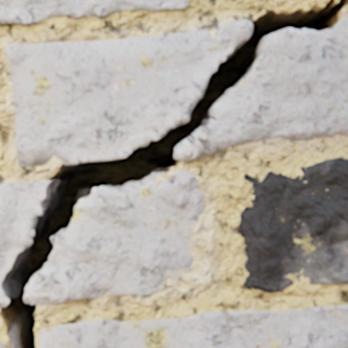brick: (237, 158, 347, 292), (40, 303, 347, 347), (0, 0, 188, 26), (0, 342, 6, 347)
broken_brick: (7, 20, 251, 166), (174, 20, 347, 162), (24, 170, 204, 303), (0, 180, 50, 305), (197, 223, 203, 233)
crack: (1, 0, 347, 347), (51, 154, 56, 160), (212, 35, 216, 40)
